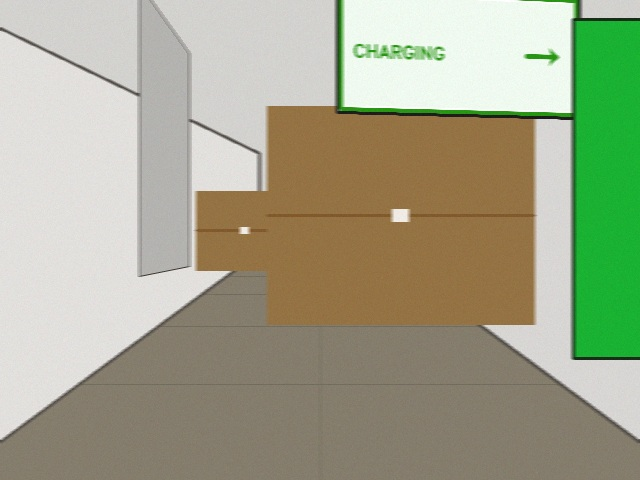box: (267, 106, 534, 324), (196, 191, 297, 270)
charging_station: (573, 19, 639, 358)
directional_sign: (337, 0, 579, 118)
